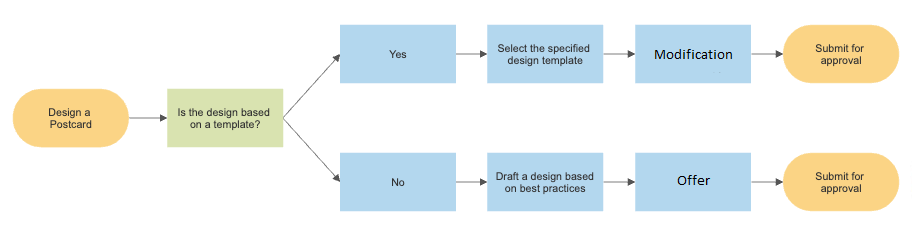arrow: (285, 112, 340, 184), (287, 52, 341, 112), (129, 111, 169, 125), (605, 47, 635, 61), (752, 176, 785, 188), (753, 47, 781, 61), (604, 176, 636, 188), (458, 176, 489, 187), (458, 47, 488, 58)
process: (338, 22, 458, 87), (485, 22, 605, 86), (338, 150, 458, 214), (634, 23, 753, 87), (487, 150, 605, 213), (169, 87, 285, 151), (633, 150, 750, 213)
terminator: (784, 23, 901, 85), (784, 149, 901, 211), (12, 87, 129, 148)
text: (493, 168, 598, 198), (174, 105, 273, 134), (495, 42, 594, 69), (812, 41, 866, 69), (46, 104, 96, 134), (814, 169, 869, 195), (655, 47, 736, 63), (676, 171, 712, 189), (388, 48, 410, 60), (388, 175, 406, 187)
